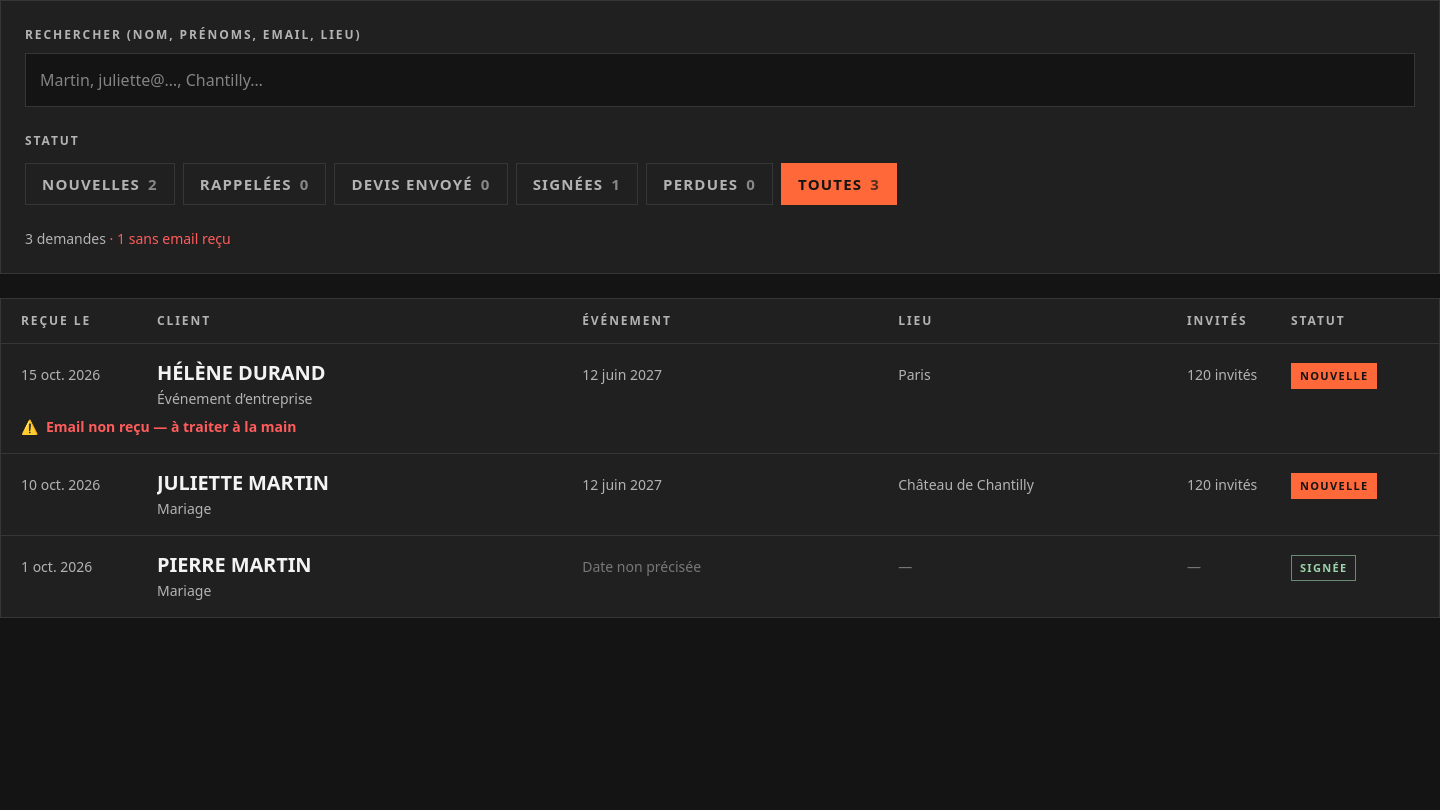
Test: GestionDemandes — fiche › « Marquer comme traitée » passe une nouvelle demande en « Rappelée », enregistré seul
Click the button with aria-label "Ouvrir la demande de Juliette Martin". click: (243, 483)
box: [157,470,329,495]
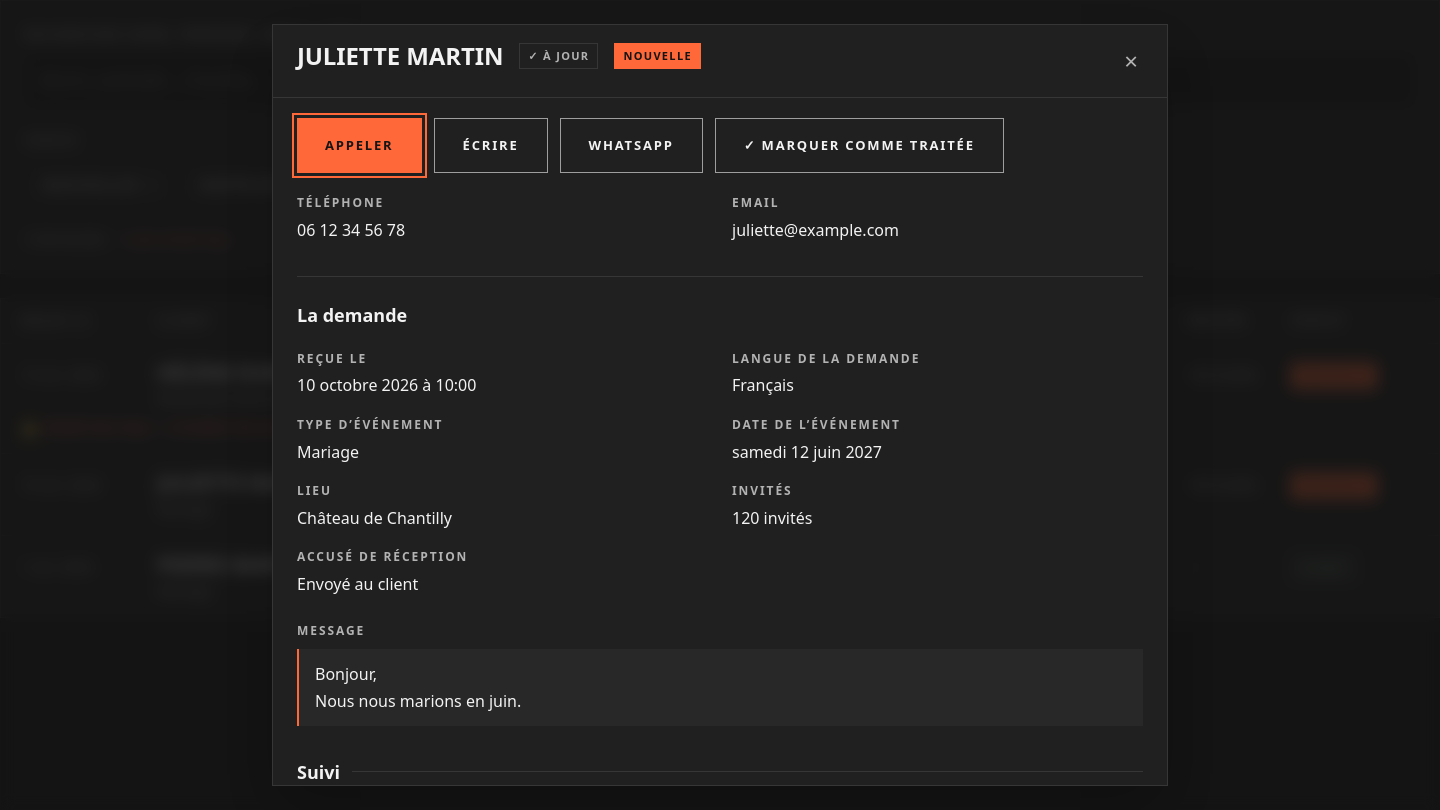
Click the button "✓ Marquer comme traitée". click: (859, 146)
box: [715,118,1004,173]
(page scrolled)
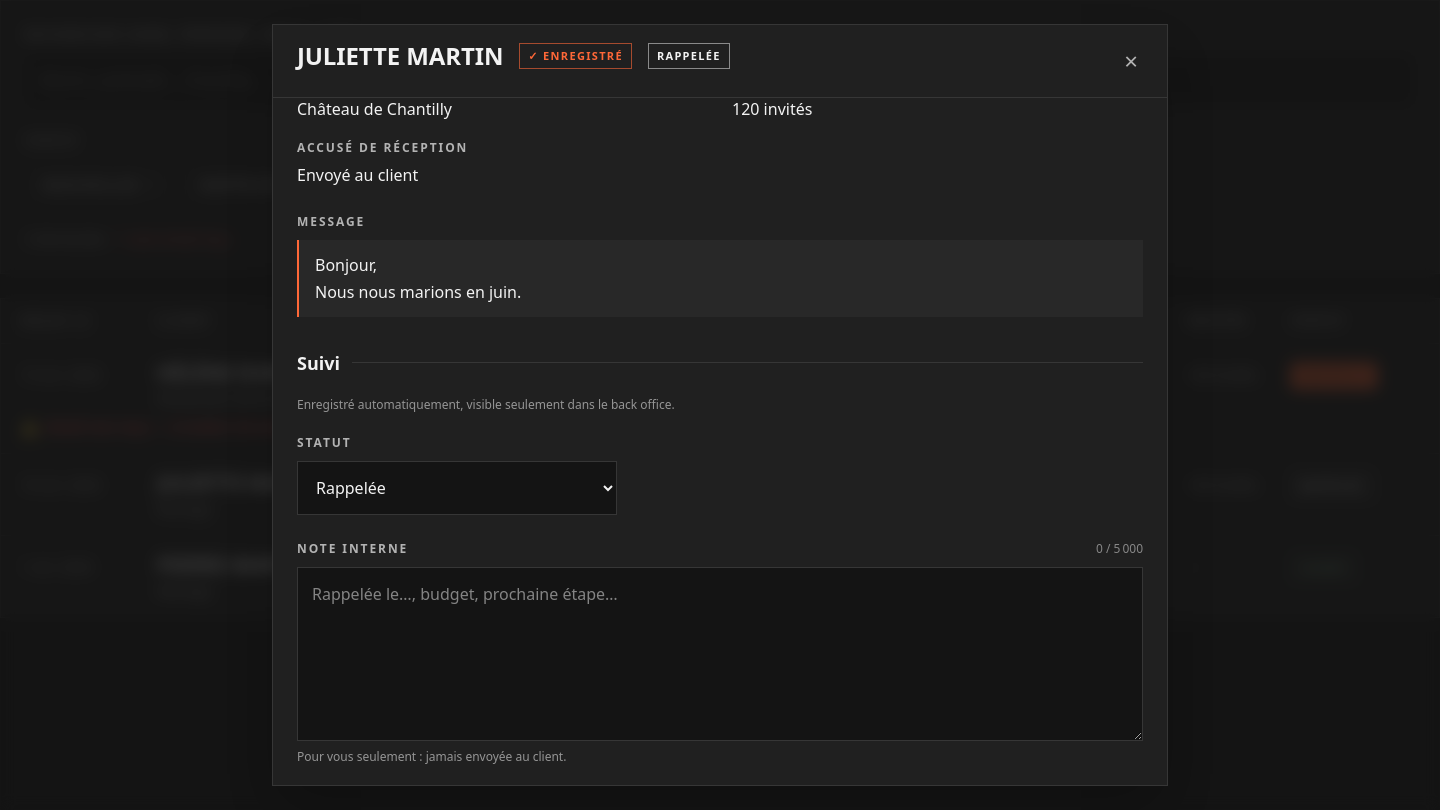
Expected: the dropdown labelled "Statut" shows "Rappelée", [297,461,617,515]
Expected: the button "✓ Marquer comme traitée" is gone
